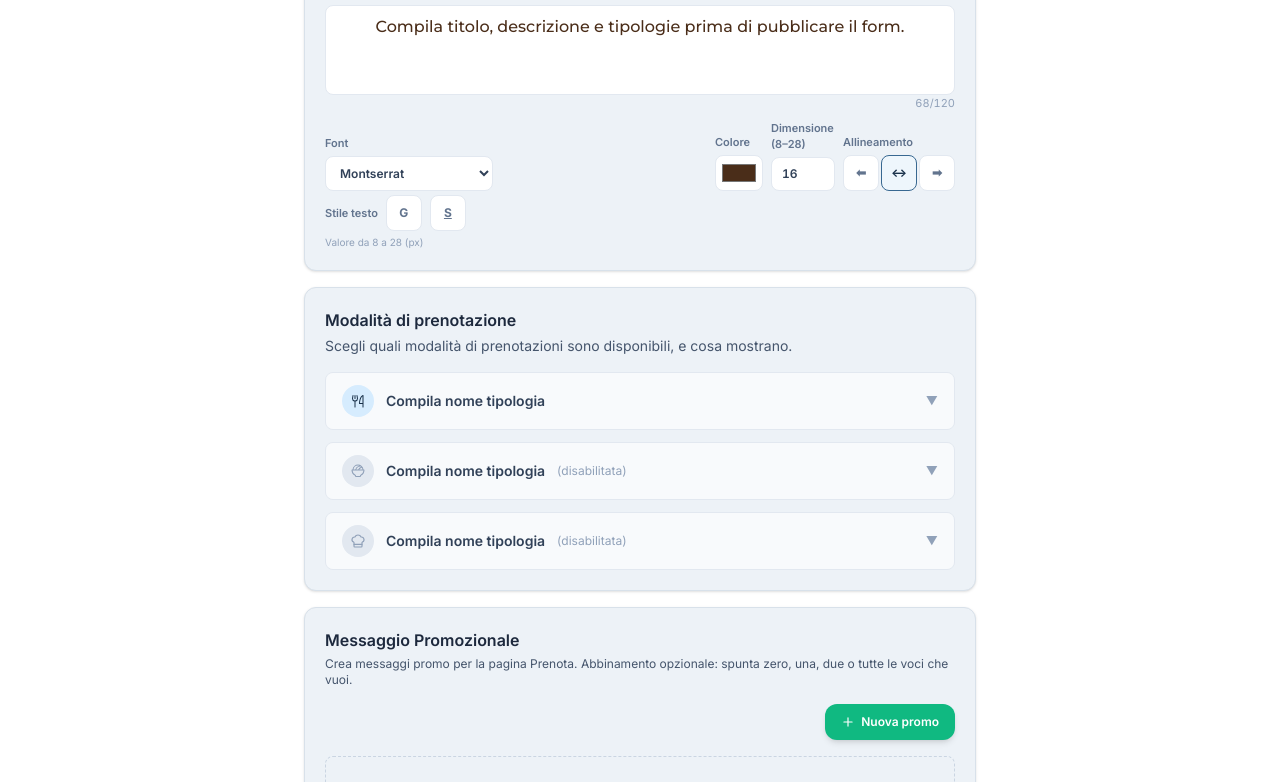
Test: settings-form-config delete card/carosello › carosello › riga collassata: annulla non rimuove, conferma alza dirty
(page scrolled)
Click the button "Compila nome tipologia ▼". click: x=358, y=401
box: top-left (326, 373), bottom-right (954, 429)
(page scrolled)
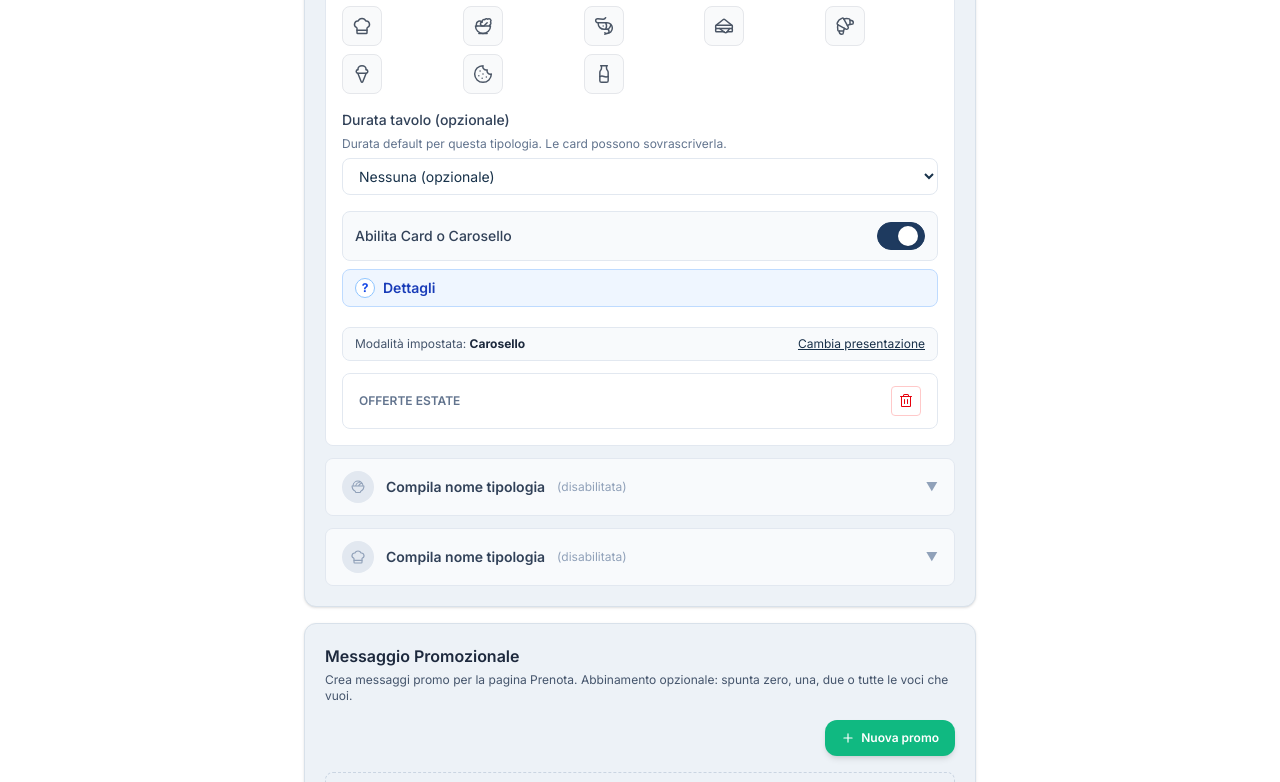
Now the text "Abilita Card o Carosello" is shown, box top-left (355, 226), bottom-right (512, 246)
Now the text "Offerte estate" is shown, box top-left (359, 393), bottom-right (460, 408)
Click the button named "Elimina Offerte estate". click: x=906, y=401
box: top-left (891, 386), bottom-right (921, 416)
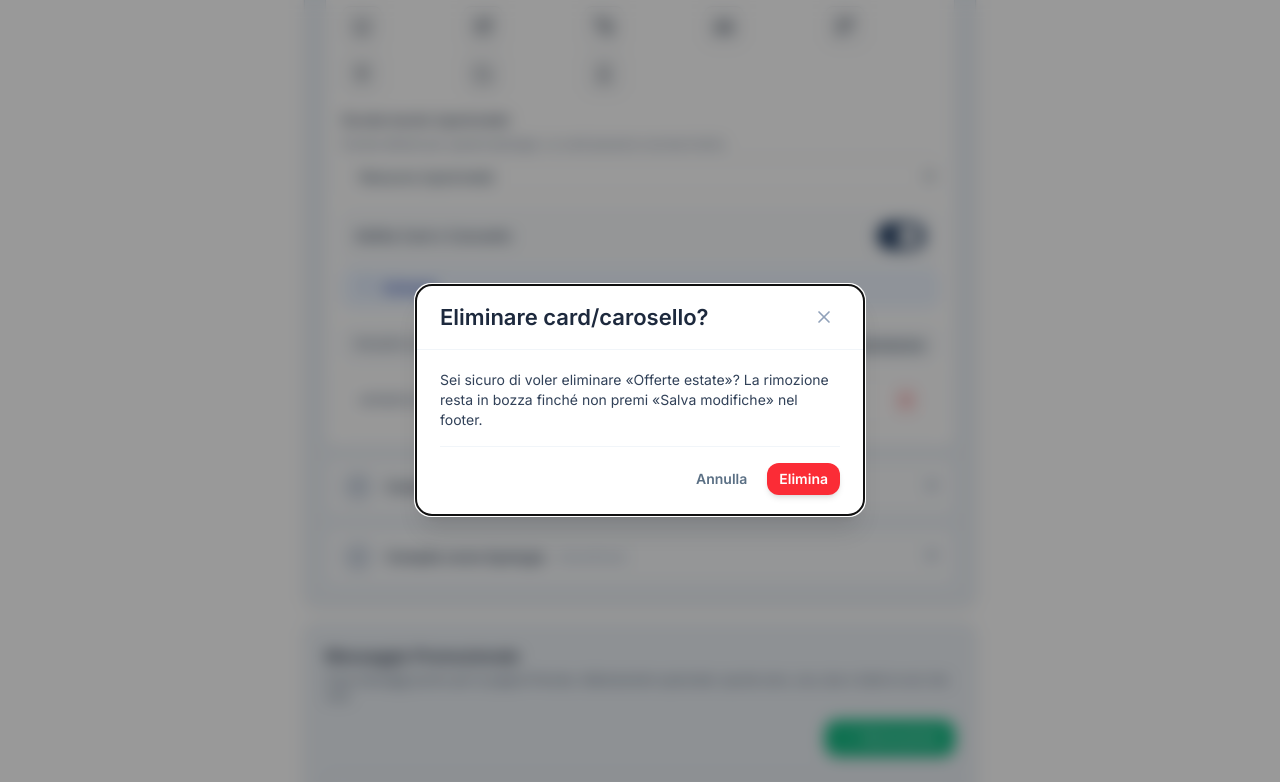
Now the text "Offerte estate" is shown, box top-left (634, 371), bottom-right (725, 388)
Click the button "Annulla". click: x=722, y=479
box: top-left (684, 463), bottom-right (759, 495)
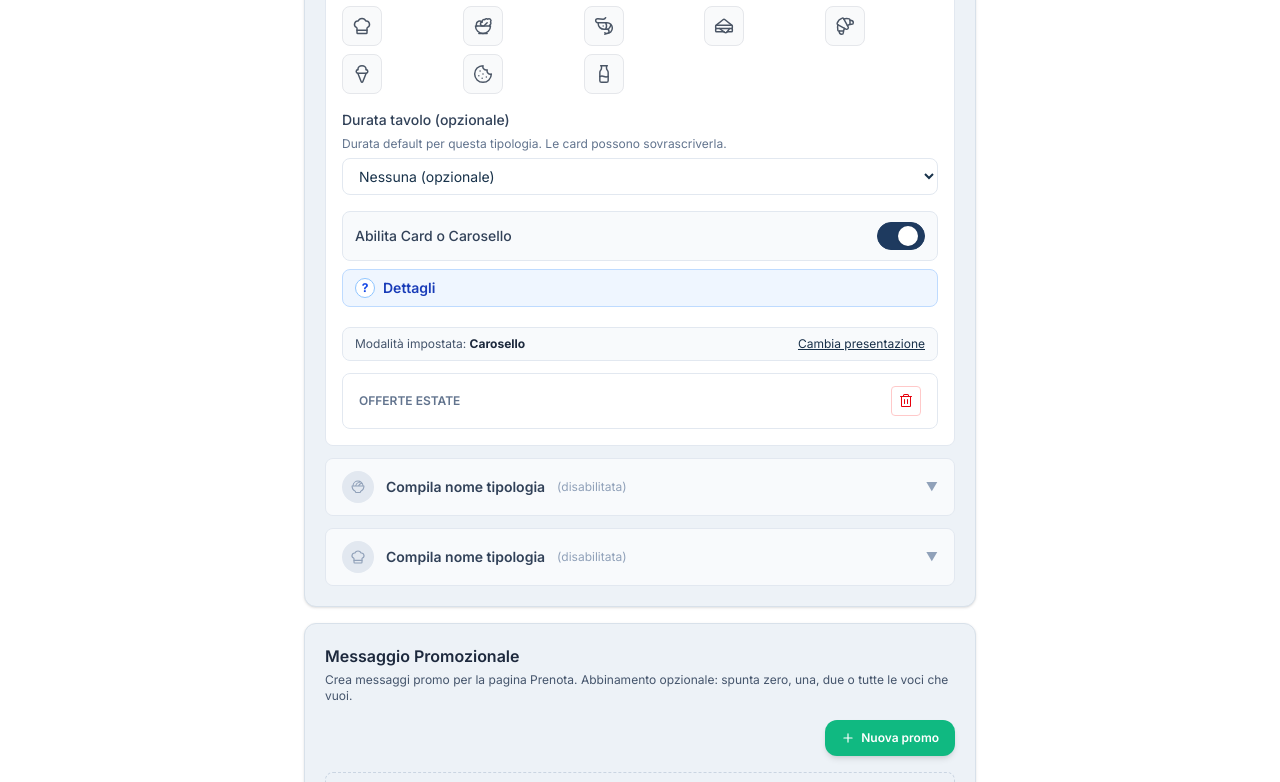
Now the text "Offerte estate" is shown, box top-left (359, 393), bottom-right (460, 408)
Now the heading "Eliminare card/carosello" is gone
Click the button named "Elimina Offerte estate". click: x=906, y=401
box: top-left (891, 386), bottom-right (921, 416)
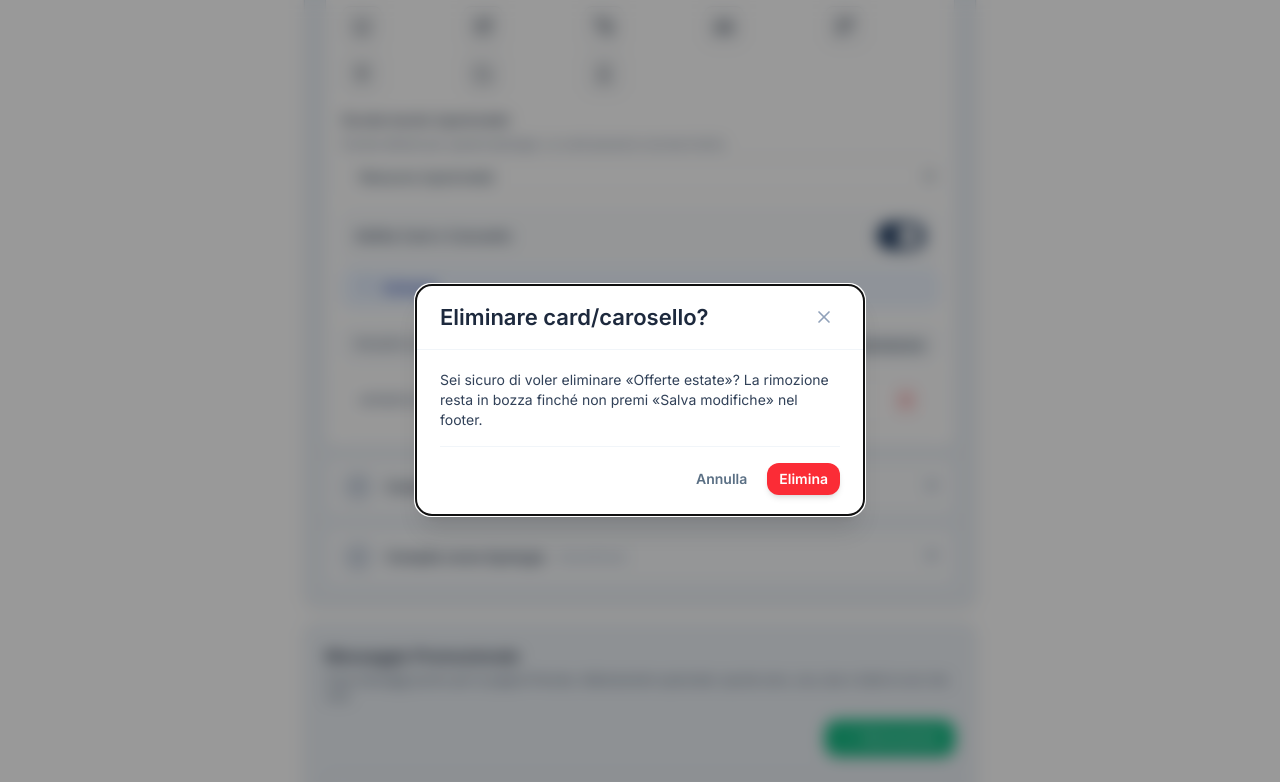
Click the button "Elimina". click: x=804, y=479
box: top-left (767, 463), bottom-right (840, 495)
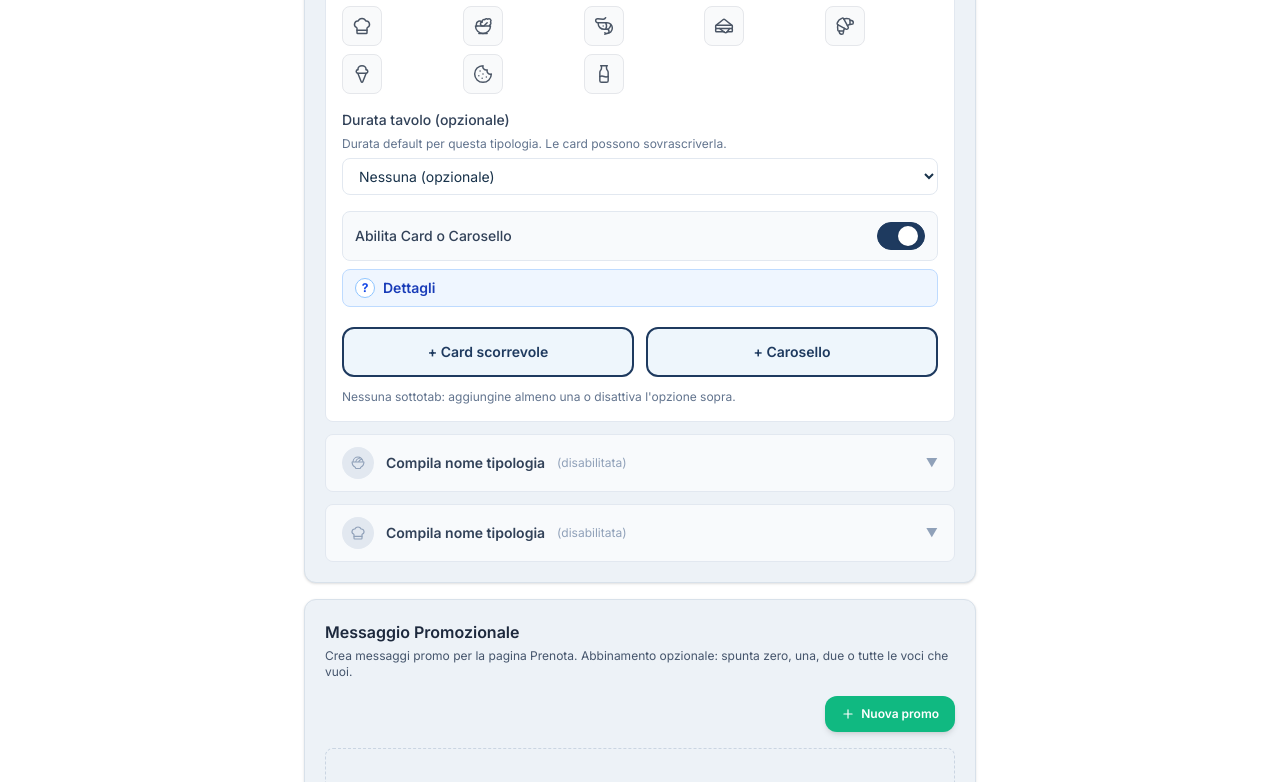
Now the button "Offerte estate" is gone
